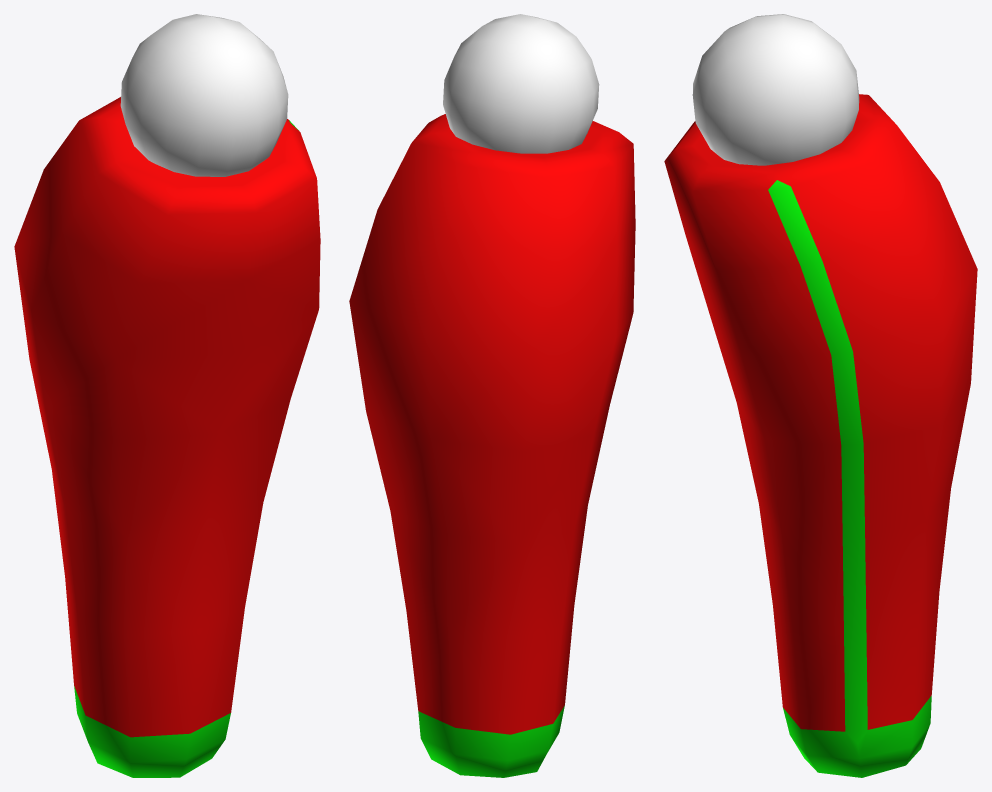
File: Xocobot_LowerLeg..fbx
3 renders of one model, left to right at view 1: azimuth 30°, elevation 25°; view 2: azimuth 150°, elevation 25°; view 3: azimuth 270°, elevation 25°, orthographic. The views are drawn at different scales.
Visible parts, largest first — view 1: Xocobot_LowerLeg.; view 2: Xocobot_LowerLeg.; view 3: Xocobot_LowerLeg..
Boxes of the visible parts, x1,y1,x2,y2 form: Xocobot_LowerLeg.: (14, 14, 320, 777); Xocobot_LowerLeg.: (349, 14, 635, 777); Xocobot_LowerLeg.: (664, 14, 977, 777).
Bounding box in the file's own units: 15.71 × 43.11 × 16.5.
